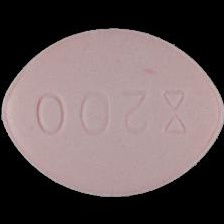16590-283: (0, 0, 224, 224)
